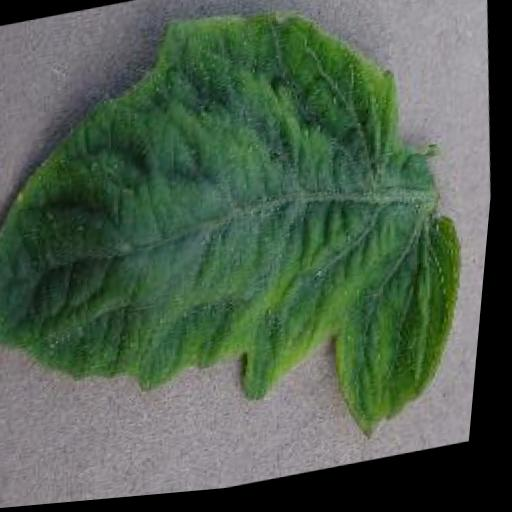Yellow Leaf Curl Virus: (0, 0, 503, 512)
